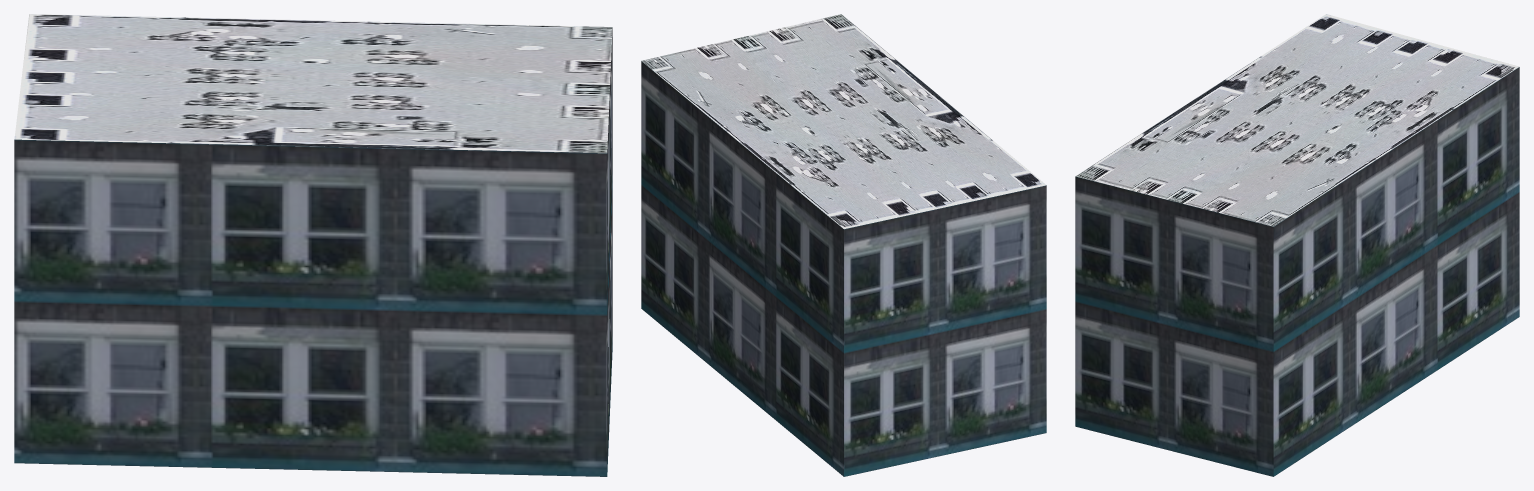
File: ResTex__4673.fbx
The picture shows the model from 3 angles, left to right: view 1: azimuth 30°, elevation 25°; view 2: azimuth 150°, elevation 25°; view 3: azimuth 270°, elevation 25°; orthographic projection. The views are drawn at different scales.
Parts seen in each view (by area): view 1: CityEngineMaterial_11_m, CityEngineMaterial_4_m; view 2: CityEngineMaterial_11_m, CityEngineMaterial_4_m; view 3: CityEngineMaterial_11_m, CityEngineMaterial_4_m.
Part boxes in pixels (x1,y1,x2,y2): CityEngineMaterial_11_m: (14,29,612,476); CityEngineMaterial_4_m: (14,14,612,153); CityEngineMaterial_11_m: (641,61,1046,476); CityEngineMaterial_4_m: (641,14,1046,229); CityEngineMaterial_11_m: (1075,67,1519,476); CityEngineMaterial_4_m: (1075,14,1519,226).
Bounding box in the file's own units: 10.94 × 6 × 9.66.
2 materials, 2 textured.
